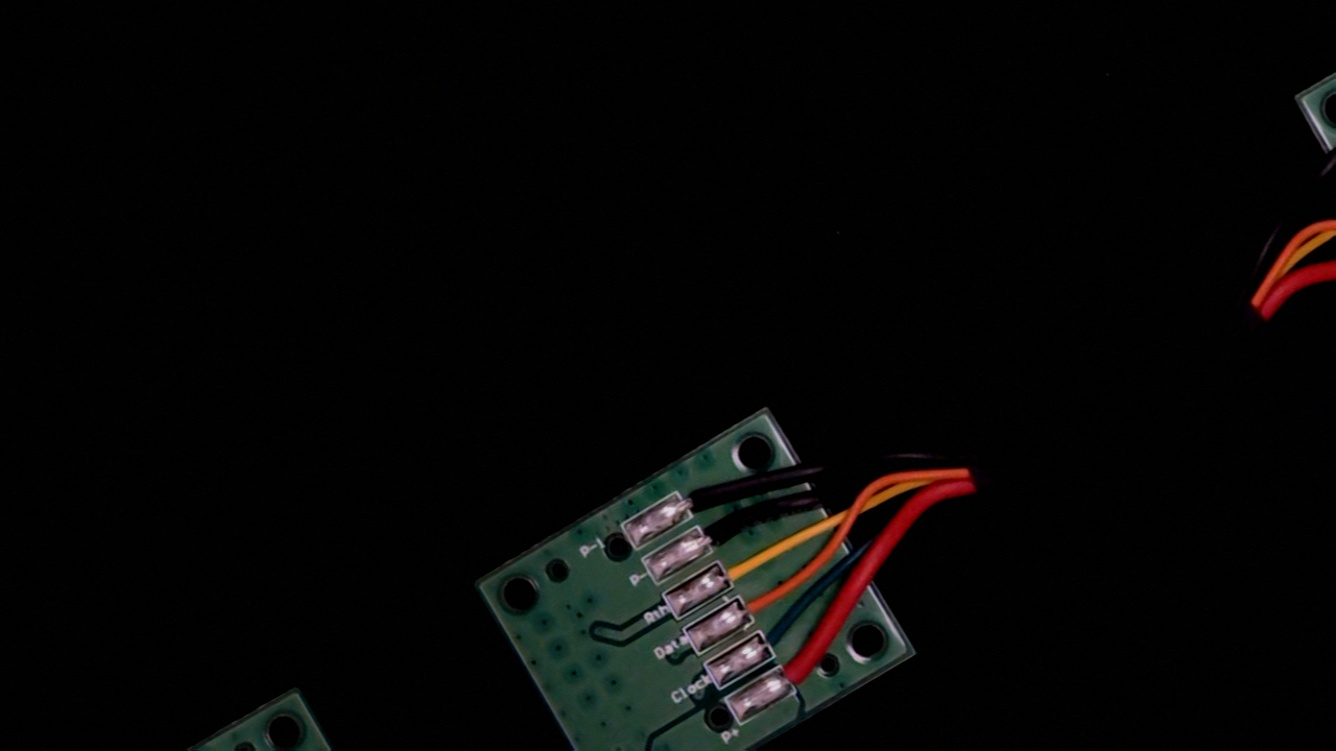Black: (685, 498, 765, 563)
Black1: (664, 464, 740, 528)
Green: (746, 606, 815, 665)
Orange: (725, 572, 797, 633)
Red: (765, 639, 840, 702)
Yellow: (705, 535, 781, 599)
